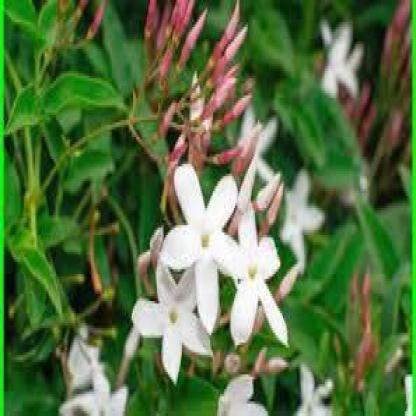Melati: (134, 121, 292, 366)
